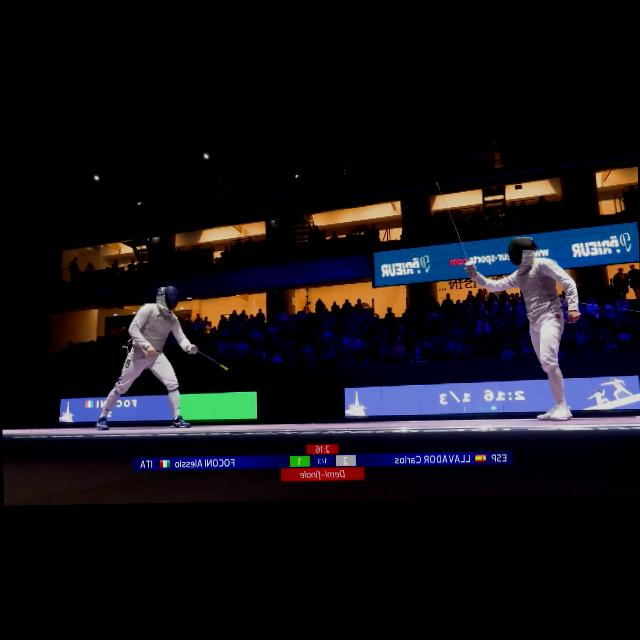blade: (429, 177, 482, 272), (185, 342, 230, 376)
